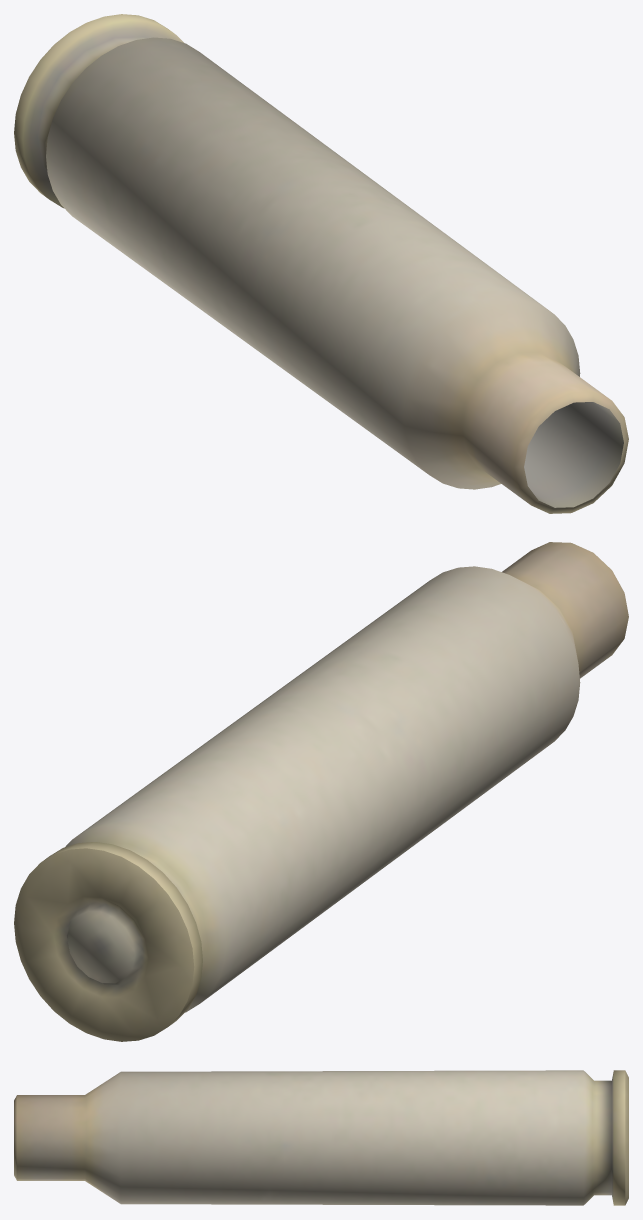
The model's file is awp_casing.glb.
3 views of the same model, one above another, from view 1: azimuth 30°, elevation 25°; view 2: azimuth 150°, elevation 25°; view 3: azimuth 270°, elevation 25° (orthographic). The views are drawn at different scales.
Parts seen in each view (by area): view 1: weapons/models/shared/shells/awp/awp_casing.vmdl_c.high; view 2: weapons/models/shared/shells/awp/awp_casing.vmdl_c.high; view 3: weapons/models/shared/shells/awp/awp_casing.vmdl_c.high.
Part boxes in pixels (x1,y1,x2,y2): weapons/models/shared/shells/awp/awp_casing.vmdl_c.high: [14, 14, 628, 513]; weapons/models/shared/shells/awp/awp_casing.vmdl_c.high: [14, 542, 628, 1041]; weapons/models/shared/shells/awp/awp_casing.vmdl_c.high: [14, 1070, 628, 1205].
Size of the model in its own units: 0.0125 by 0.0125 by 0.057.
Materials: 1 (1 with a texture image).
